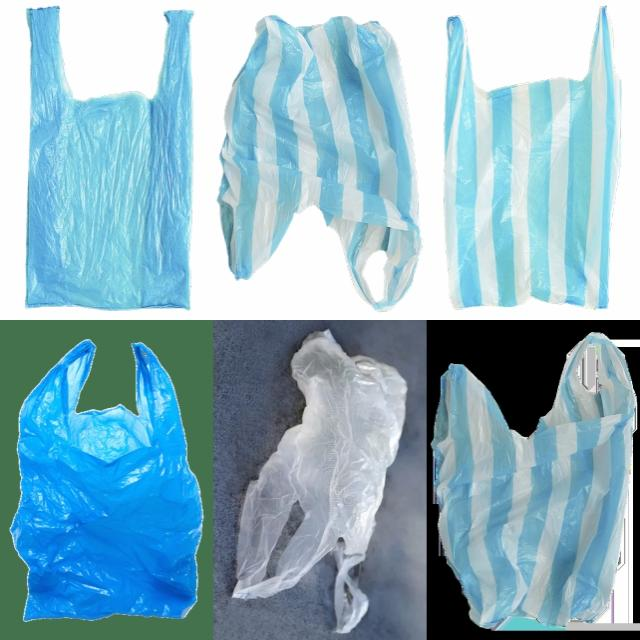Single-layer Plastic: (431, 334, 636, 629), (219, 16, 420, 310), (11, 340, 202, 620), (232, 330, 406, 633), (445, 8, 620, 308), (26, 8, 192, 309)
